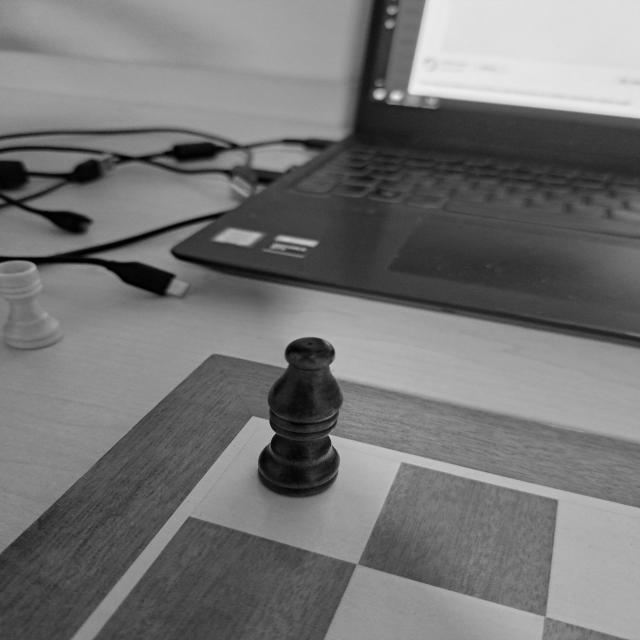chess-table-corners: (217, 401, 304, 457)
